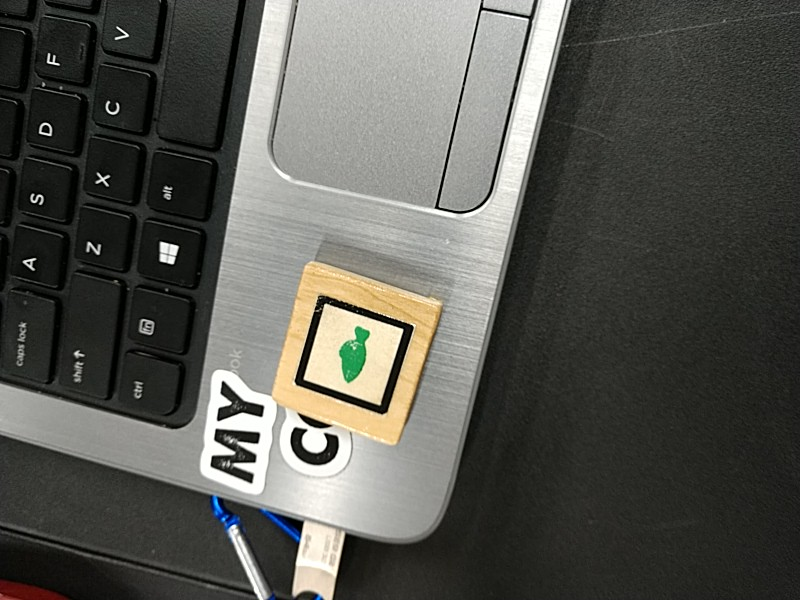Fish Tile: (293, 294, 416, 415)
